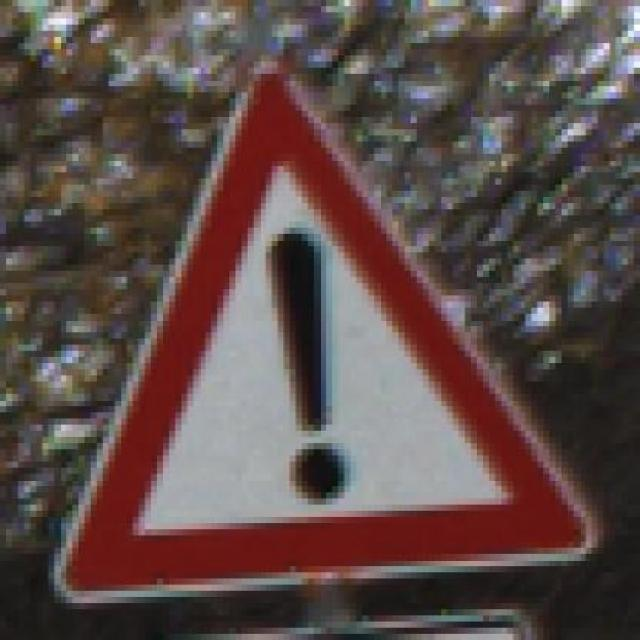Attention Please-: (49, 49, 616, 603)
